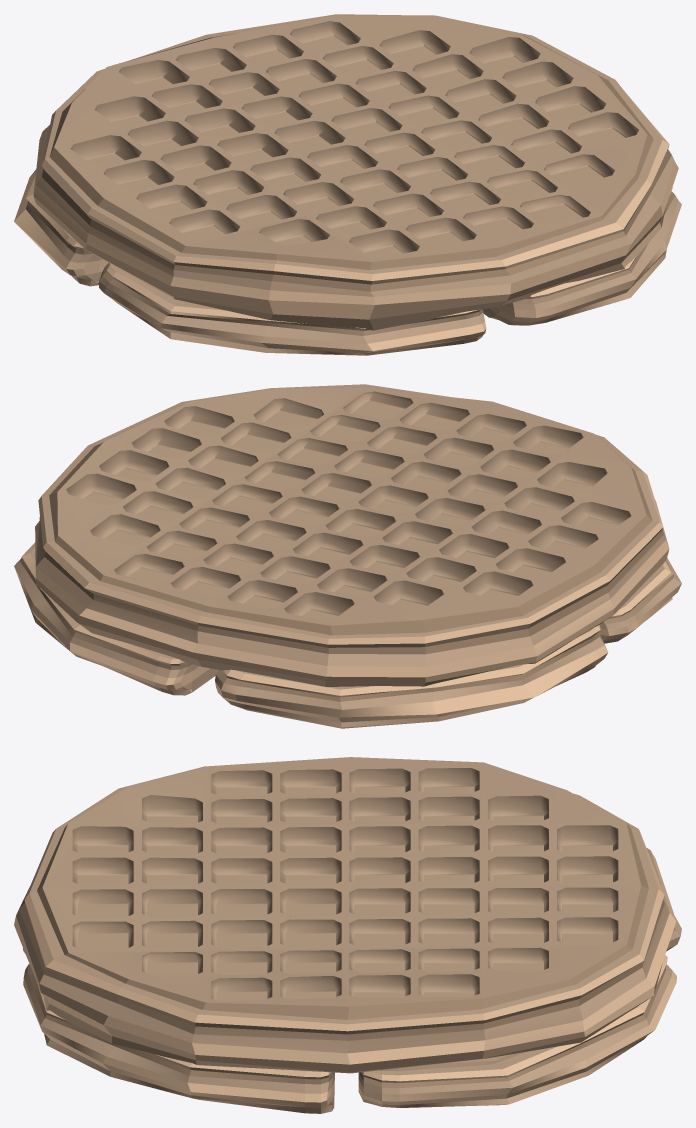
The model's file is Waffle (2).fbx.
The picture shows the model from 3 angles, top to bottom: view 1: azimuth 30°, elevation 25°; view 2: azimuth 150°, elevation 25°; view 3: azimuth 270°, elevation 25°; orthographic projection. The views are drawn at different scales.
Visible parts, largest first — view 1: waffletop, waffelbot1.003; view 2: waffletop, waffelbot1.003; view 3: waffletop, waffelbot1.003.
Part boxes in pixels (box(x1,y1,x2,y2)): waffletop: box(33, 14, 678, 330); waffelbot1.003: box(14, 169, 681, 355); waffletop: box(35, 384, 669, 686); waffelbot1.003: box(14, 542, 681, 728); waffletop: box(14, 757, 676, 1073); waffelbot1.003: box(23, 917, 681, 1113).
Size of the model in its own units: 961 by 163 by 965.
